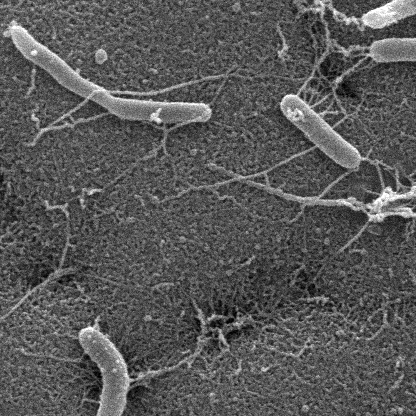cell2surface: (130, 324, 223, 393), (288, 41, 347, 96), (297, 0, 338, 56)
filament: (6, 24, 212, 122), (75, 328, 125, 416)
regular: (279, 95, 366, 170), (358, 0, 416, 30), (369, 39, 416, 69)
